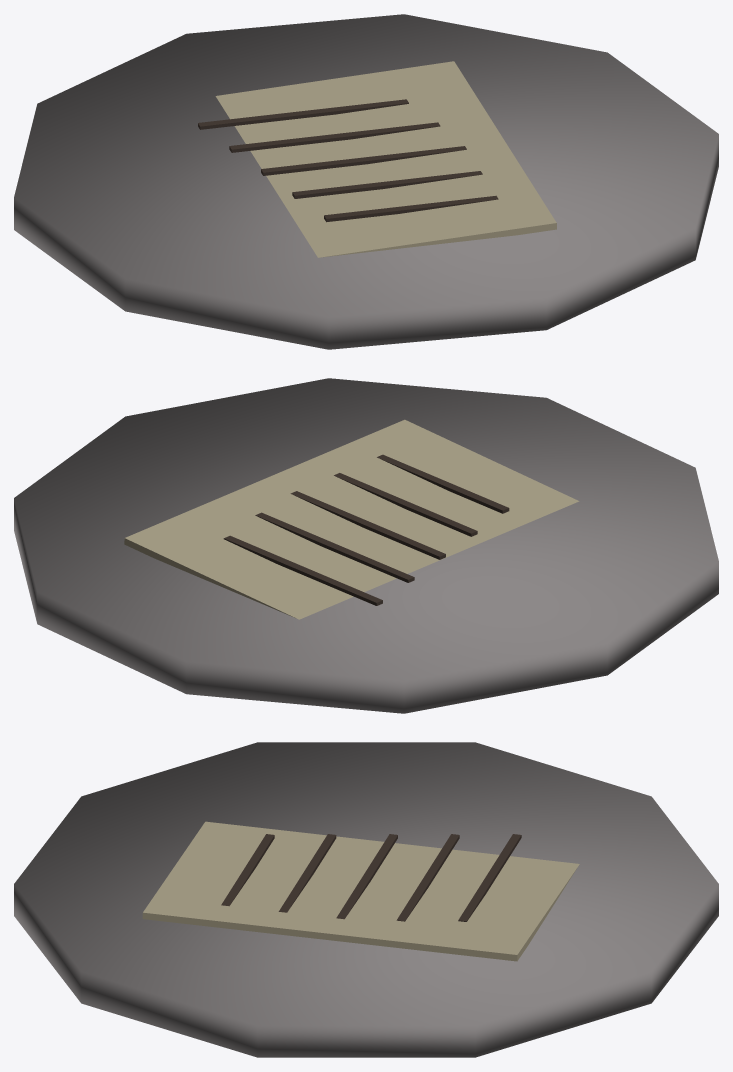
File: ledger_page.glb
3 renders of one model, top to bottom at view 1: azimuth 30°, elevation 25°; view 2: azimuth 150°, elevation 25°; view 3: azimuth 270°, elevation 25°, orthographic. The views are drawn at different scales.
Visible parts, largest first — view 1: ledger_page; view 2: ledger_page; view 3: ledger_page.
Boxes of the visible parts, left/top/right/bottom form: ledger_page: left=14, top=14, right=718, bottom=349; ledger_page: left=14, top=378, right=718, bottom=713; ledger_page: left=14, top=742, right=718, bottom=1057.
Bounding box in the file's own units: 0.3804 × 0.0248 × 0.4.
